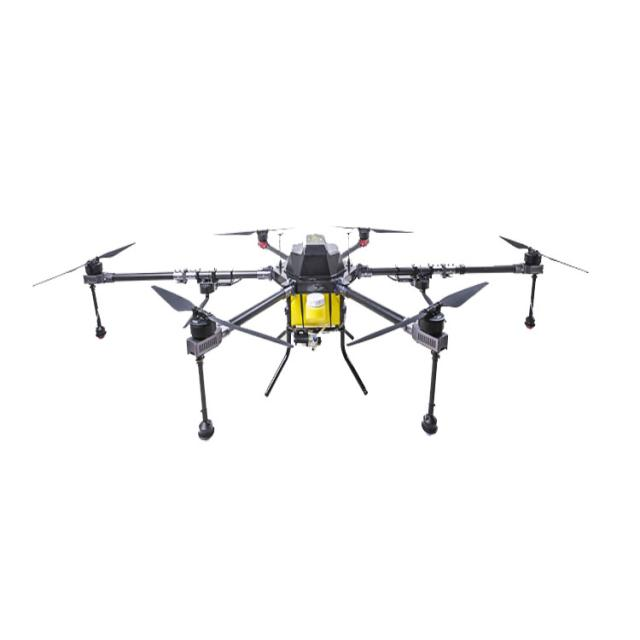drone: (52, 208, 607, 439)
